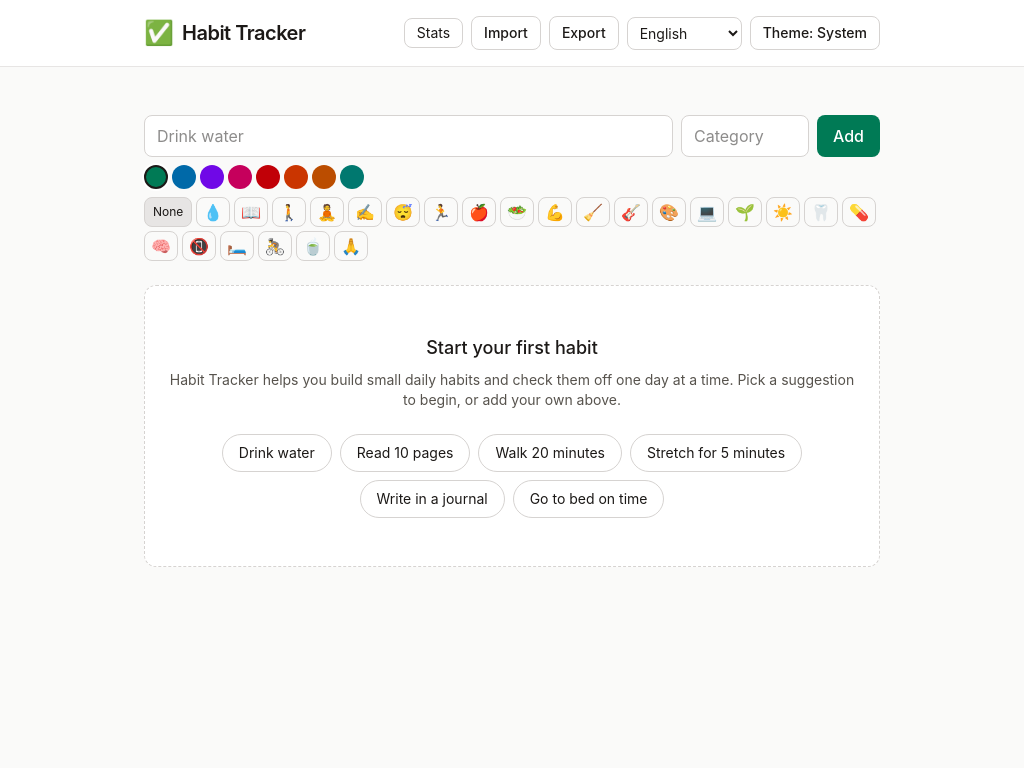
Scenario: adding habits › keeps the empty state when the name is blank
What coordinates should you click on to do the following:
click the button "Add"
I would click on:
 (848, 136)
Its box is [817,115,880,157].
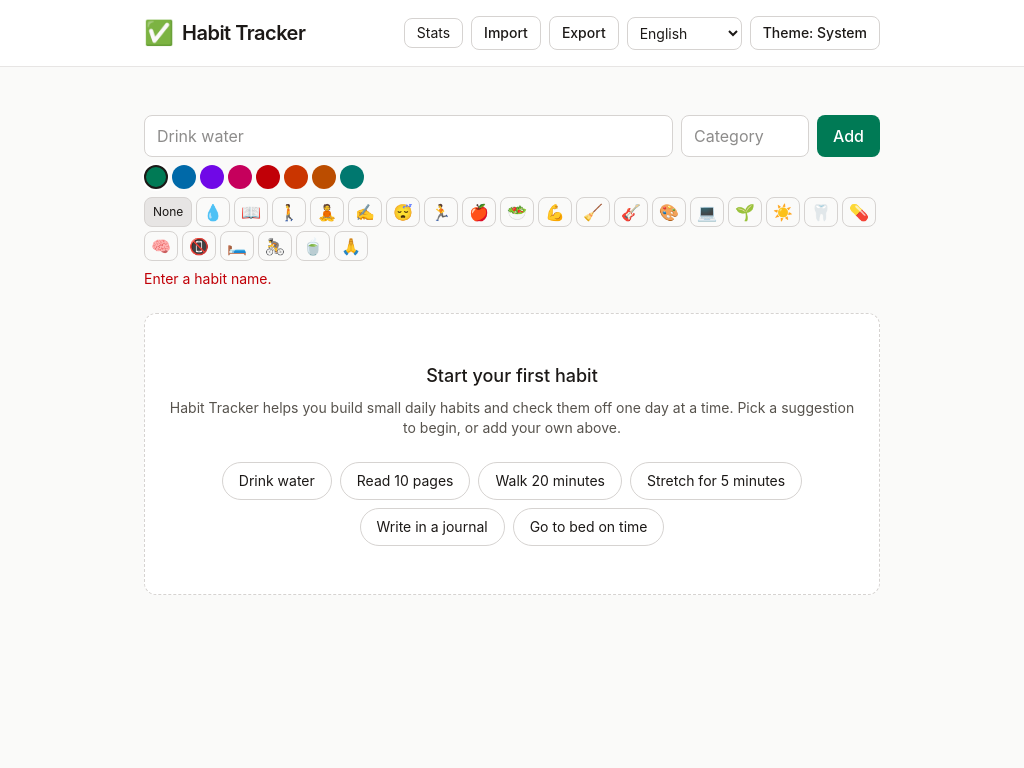
Expected: the heading "Start your first habit" is shown, [426,365,598,386]
Now the message "Enter a habit name." is shown, box [144,270,272,287]
